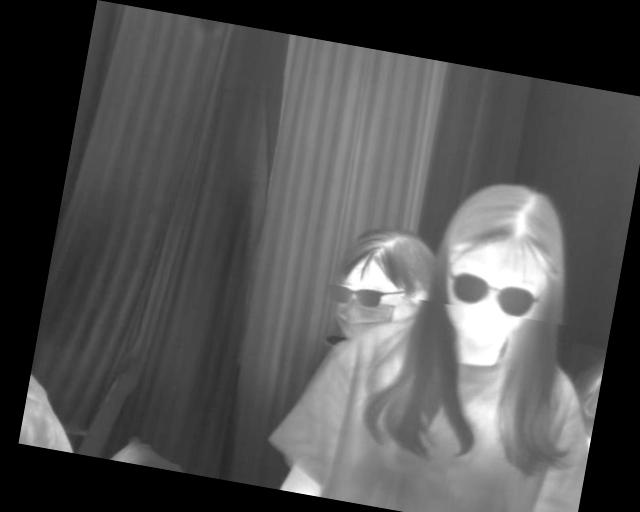face: (432, 175, 574, 361), (322, 219, 435, 353)
